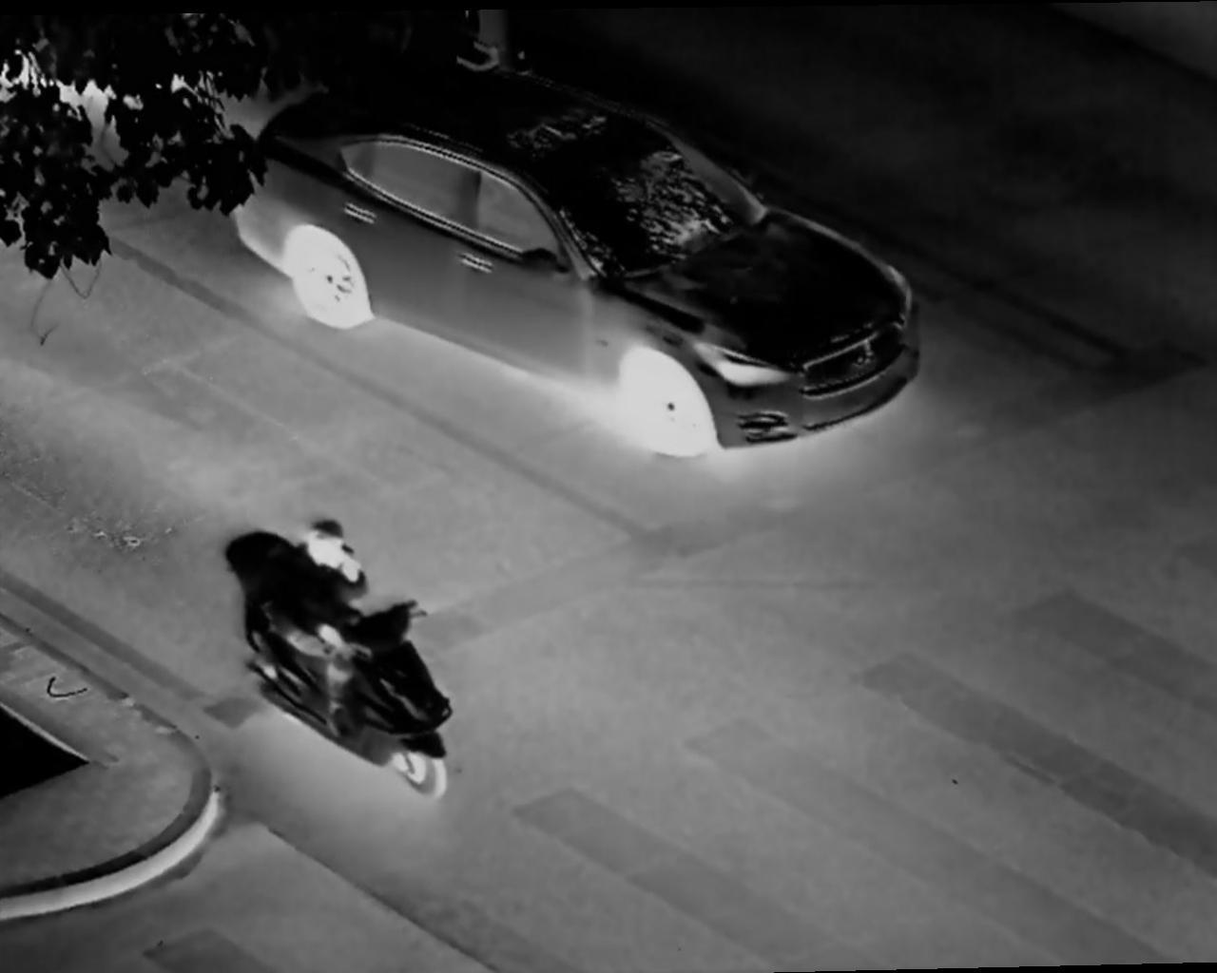person: (295, 516, 373, 735)
